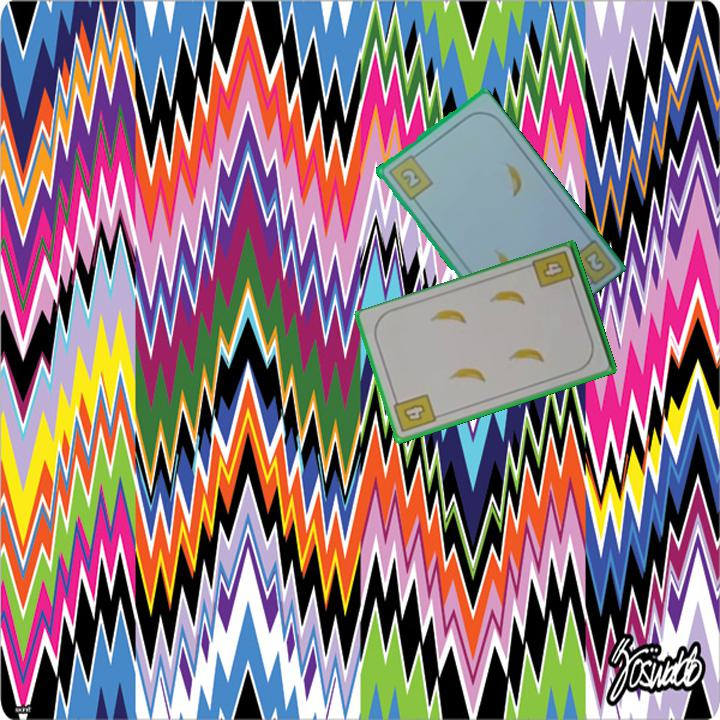2b: (385, 149, 435, 203), (580, 247, 606, 275)
4b: (390, 390, 439, 435), (529, 247, 577, 291)
